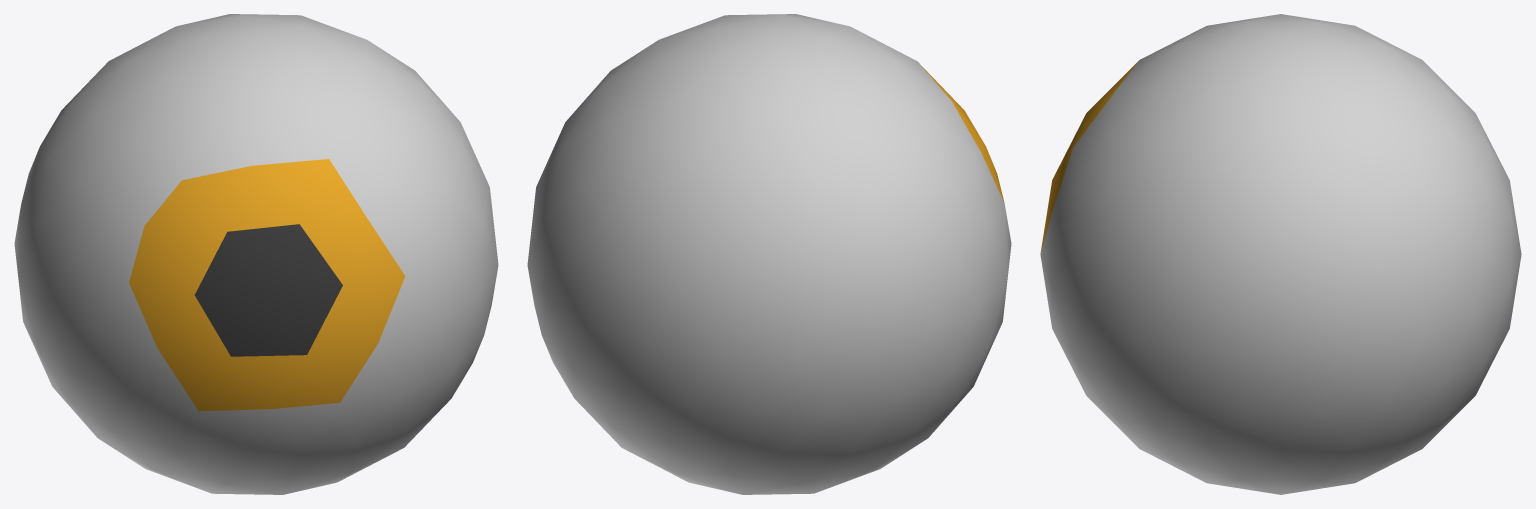
The model's file is Eyeballs.glb.
3 renders of one model, left to right at view 1: azimuth 30°, elevation 25°; view 2: azimuth 150°, elevation 25°; view 3: azimuth 270°, elevation 25°, orthographic.
Visible parts, largest first — view 1: Eyeball; view 2: Eyeball; view 3: Eyeball.
Part boxes in pixels (x1,y1,x2,y2): Eyeball: (14, 14, 498, 494); Eyeball: (527, 14, 1011, 494); Eyeball: (1040, 14, 1521, 494).
Bounding box in the file's own units: 0.1291 × 0.1291 × 0.1291.
